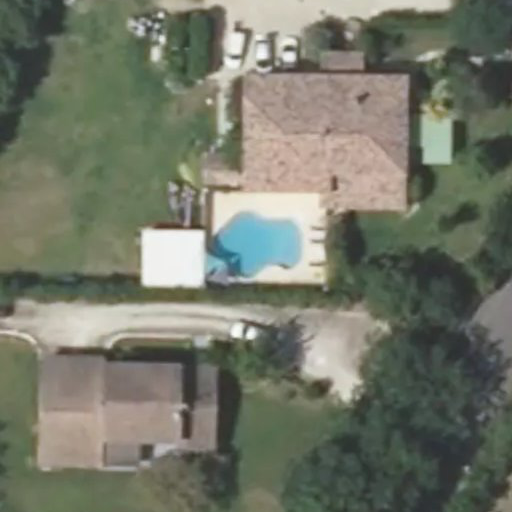pool: (206, 215, 305, 263)
